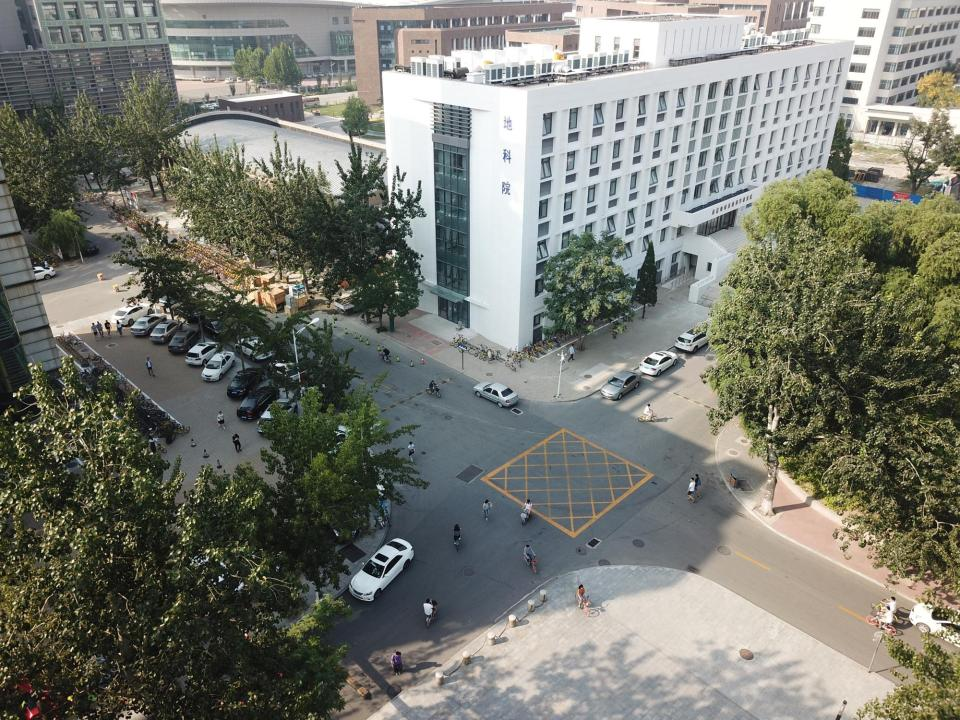car: (349, 536, 414, 601), (909, 599, 960, 653), (308, 421, 358, 469), (255, 396, 299, 433), (236, 386, 280, 422), (473, 381, 519, 410), (599, 369, 641, 399), (199, 350, 235, 382), (227, 367, 264, 398), (111, 301, 155, 326), (639, 350, 678, 377), (268, 360, 309, 384), (674, 328, 710, 354), (234, 337, 274, 360), (200, 316, 236, 340), (132, 312, 166, 336), (150, 318, 182, 342), (188, 343, 220, 366), (146, 286, 178, 308), (172, 301, 207, 321), (28, 264, 57, 282), (76, 238, 102, 256), (66, 338, 84, 347), (155, 442, 167, 454), (57, 332, 76, 339)
truck: (334, 284, 377, 316)
